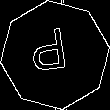P_S: (33, 27, 77, 83)
